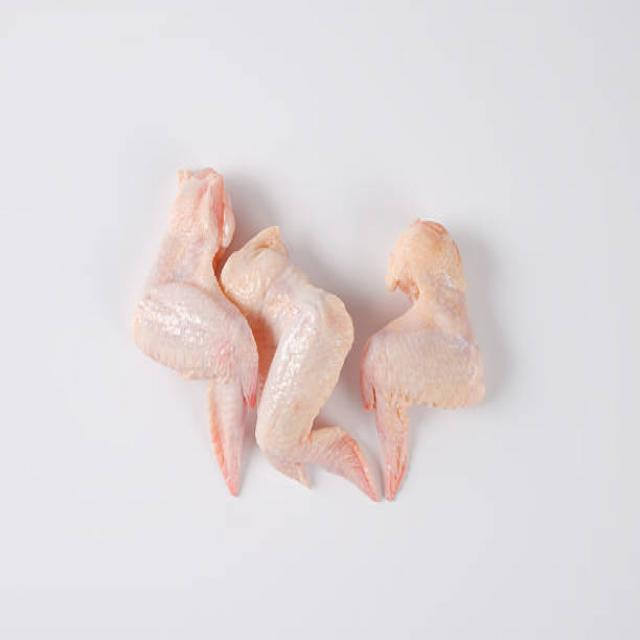Chicken Wing: (130, 160, 252, 510), (356, 210, 495, 502), (243, 236, 374, 510)
